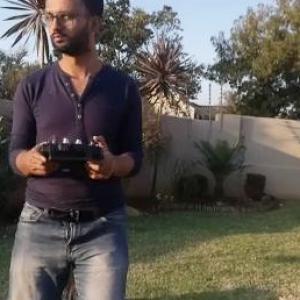follow: (0, 0, 147, 299)
